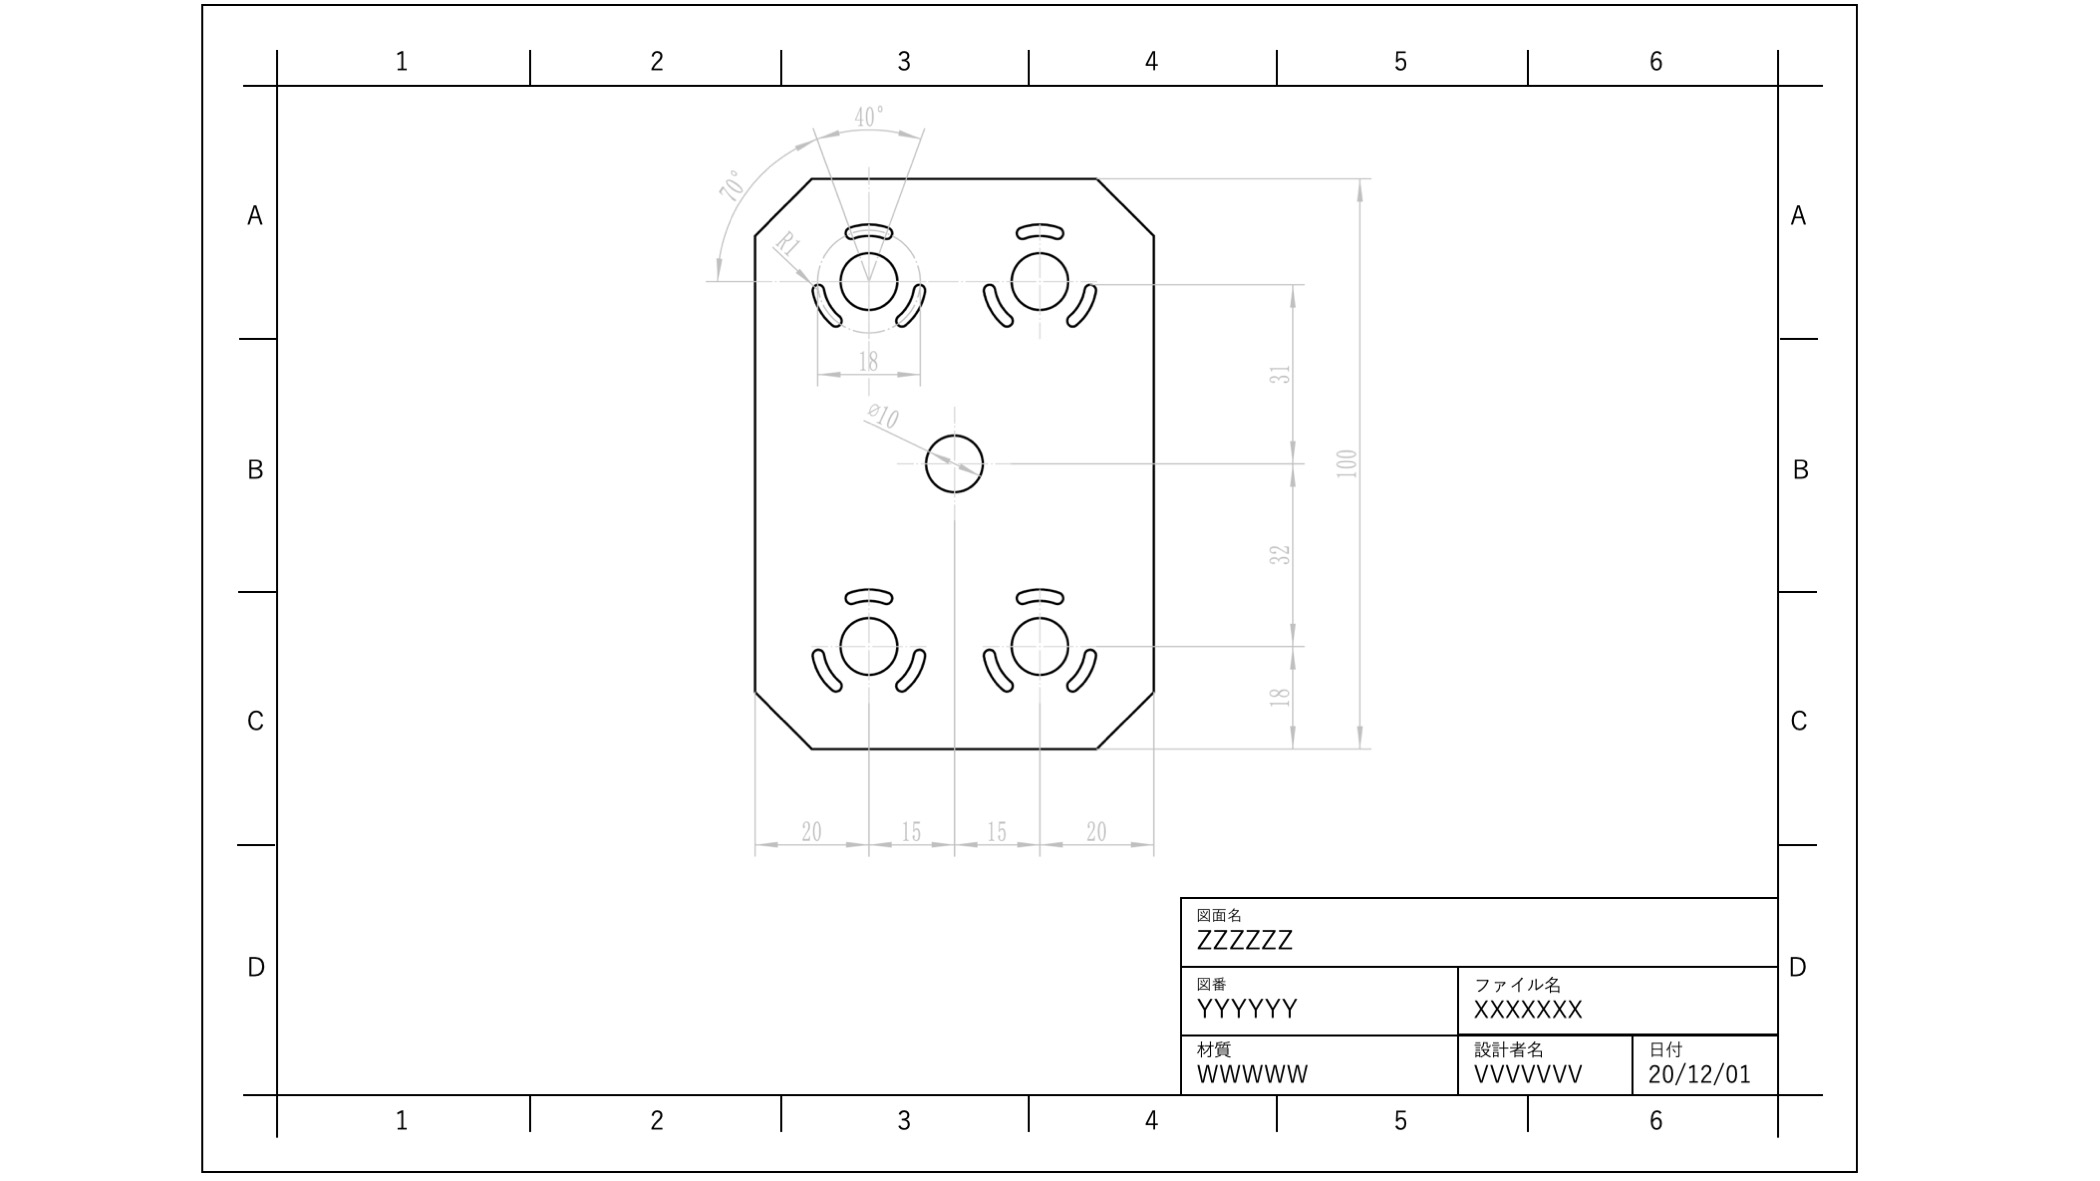circle: (917, 427, 988, 497), (1001, 613, 1073, 678), (831, 247, 904, 310), (1004, 247, 1072, 314), (829, 617, 901, 673)
round_rectangle: (795, 273, 842, 333), (798, 646, 847, 704), (1064, 274, 1108, 333), (1062, 636, 1102, 696), (1010, 211, 1077, 247), (966, 283, 1020, 327), (979, 642, 1020, 696), (887, 281, 935, 327), (837, 575, 904, 606), (896, 650, 930, 699), (1010, 581, 1087, 600), (839, 216, 901, 239)
